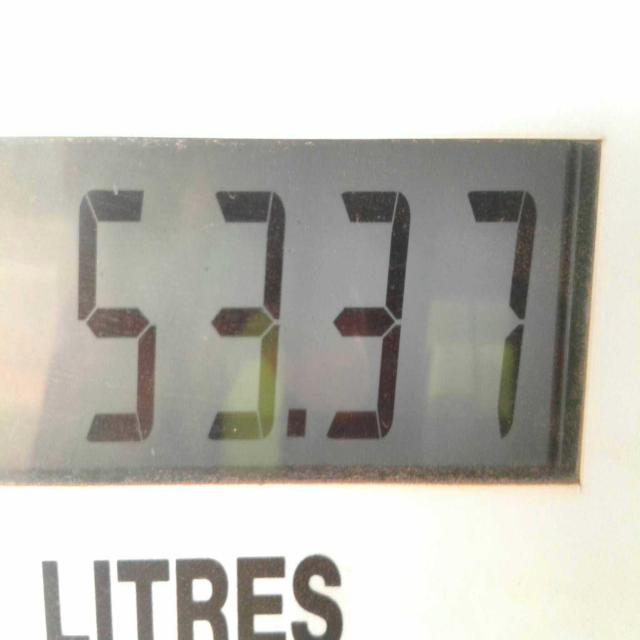.: (286, 402, 306, 442)
3: (203, 171, 297, 451), (328, 174, 413, 449)
5: (63, 176, 173, 456)
7: (461, 180, 546, 446)
